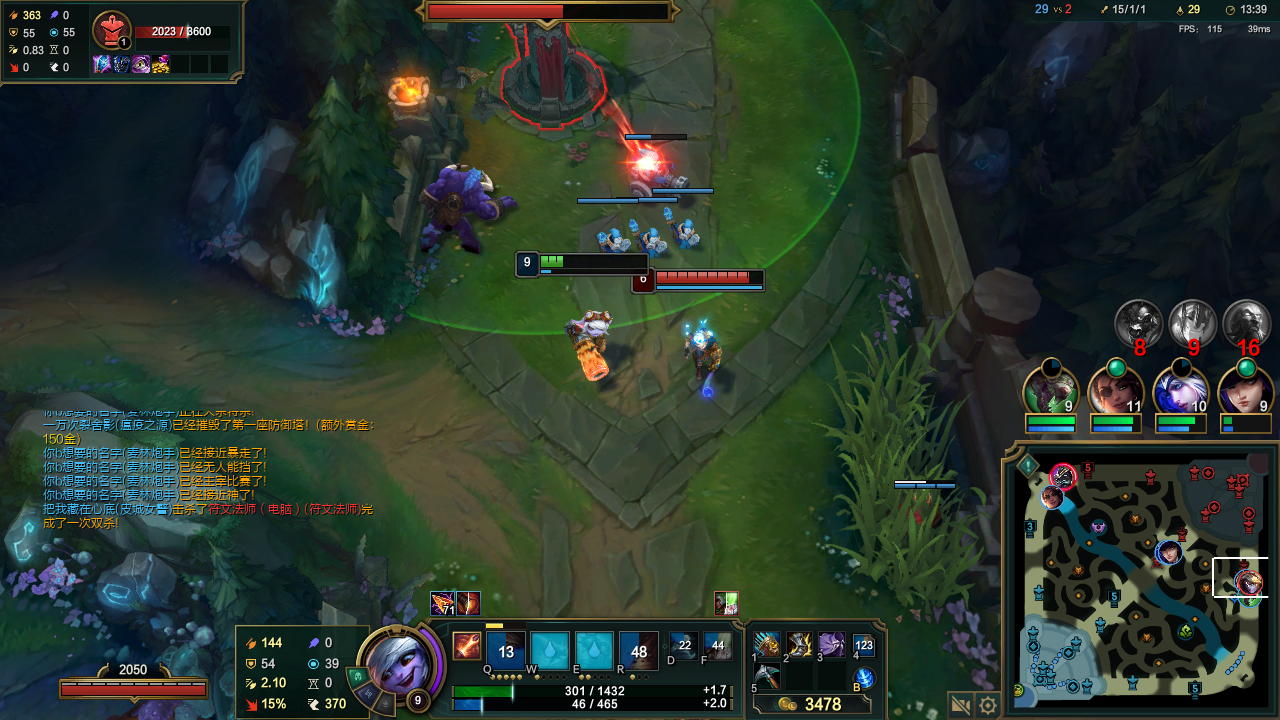DFFYT: (481, 5, 616, 124)
DFYX: (646, 269, 752, 291)
WFXB: (625, 150, 699, 201), (655, 206, 706, 252), (625, 215, 672, 263), (592, 219, 633, 257)
Yita: (1186, 676, 1214, 702)
